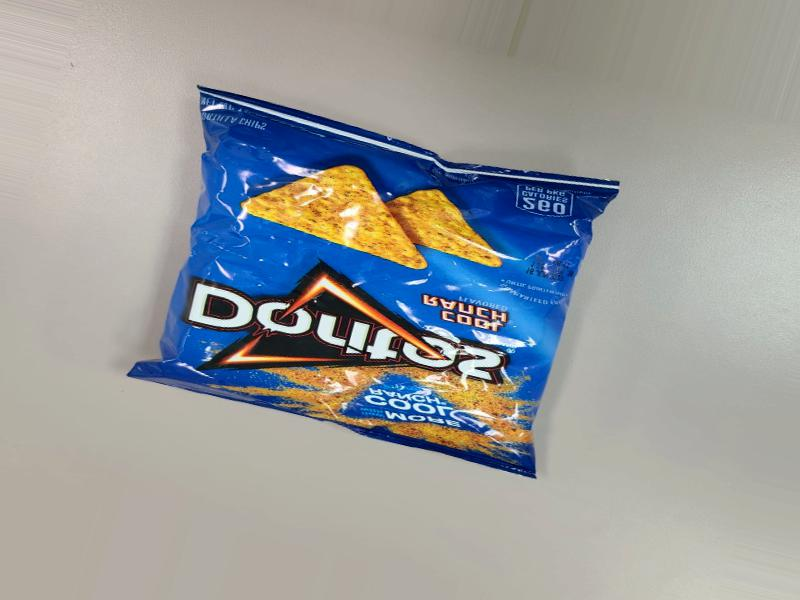doritos: (149, 114, 630, 440)
